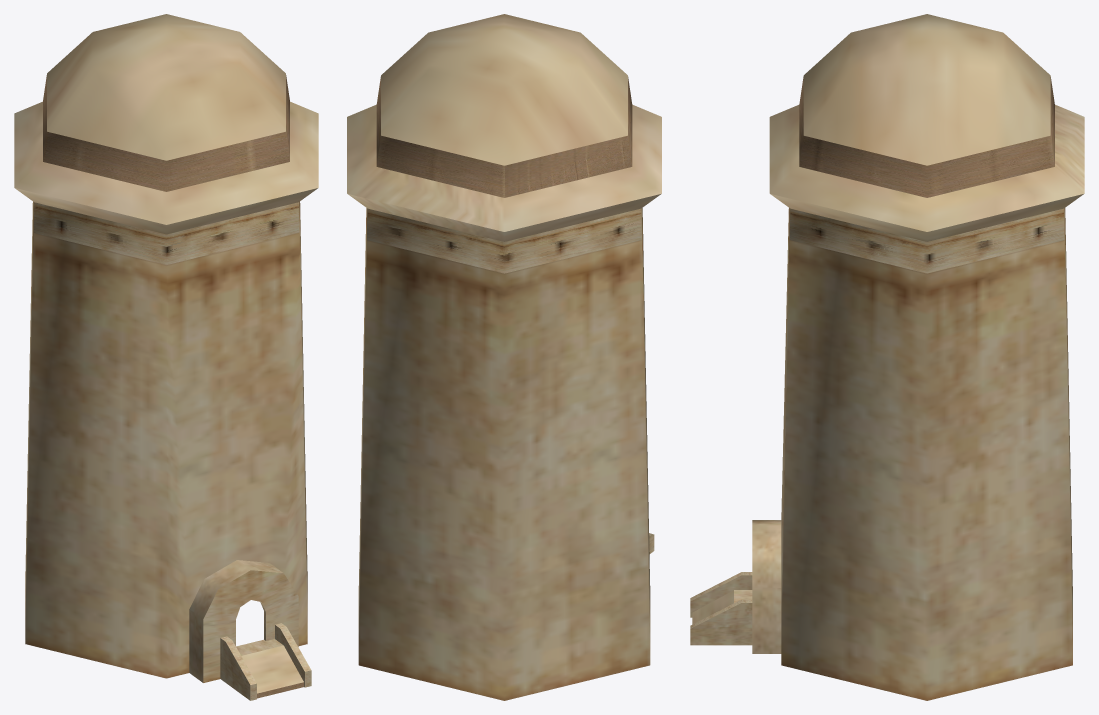
The model's file is thm_tato_imprv_building_s09_r0_mesh_l2.fbx.
The picture shows the model from 3 angles, left to right: view 1: azimuth 30°, elevation 25°; view 2: azimuth 150°, elevation 25°; view 3: azimuth 270°, elevation 25°; orthographic projection. The views are drawn at different scales.
Parts seen in each view (by area): view 1: mesh_node; view 2: mesh_node; view 3: mesh_node.
Boxes of the visible parts, x1,y1,x2,y2 form: mesh_node: (14,14,318,700); mesh_node: (347,14,661,700); mesh_node: (690,14,1084,700).
Size of the model in its own units: 21.87 by 39.78 by 23.71.
1 material, 1 textured.
